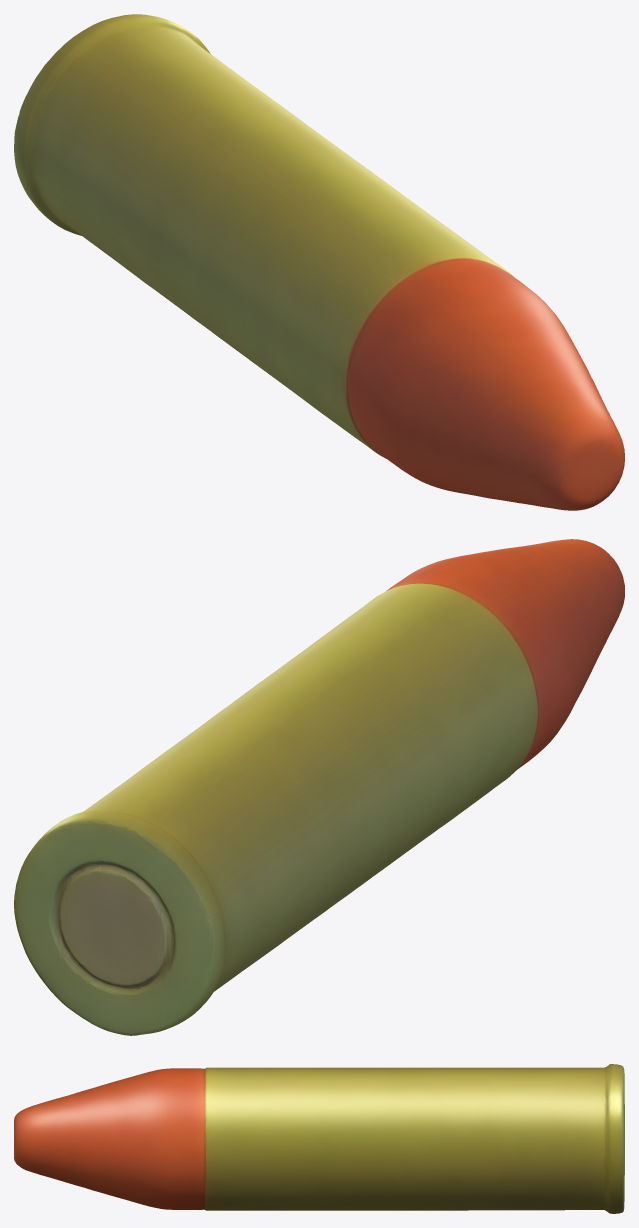
Rendered from bullet.glb.
3 renders of one model, top to bottom at view 1: azimuth 30°, elevation 25°; view 2: azimuth 150°, elevation 25°; view 3: azimuth 270°, elevation 25°, orthographic. The views are drawn at different scales.
Visible parts, largest first — view 1: Mesh; view 2: Mesh; view 3: Mesh.
Part boxes in pixels (x1,y1,x2,y2): Mesh: (14,14,624,510); Mesh: (14,539,624,1035); Mesh: (14,1064,624,1213).
Size of the model in its own units: 0.4632 by 0.4689 by 1.88.
Materials: 1 (1 with a texture image).
